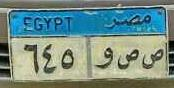4: (41, 41, 58, 76)
5: (60, 48, 76, 72)
6: (21, 41, 40, 75)
saad: (141, 44, 164, 71), (117, 46, 140, 72)
waw: (93, 45, 115, 72)
